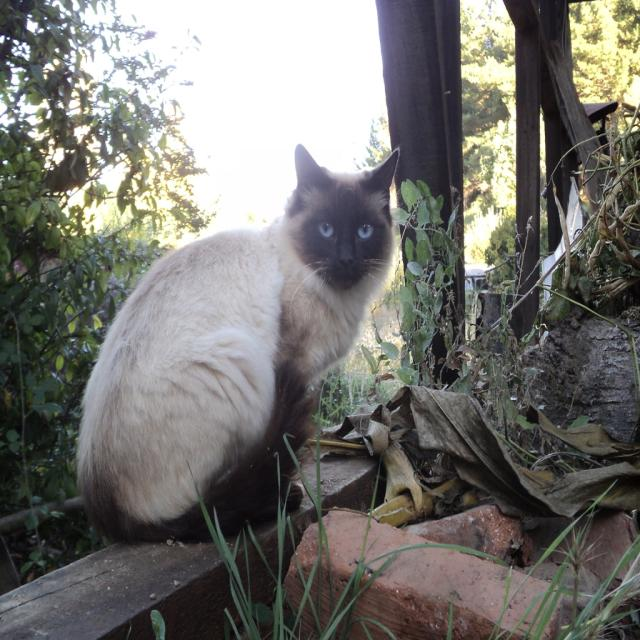Cat: (69, 145, 404, 548)
